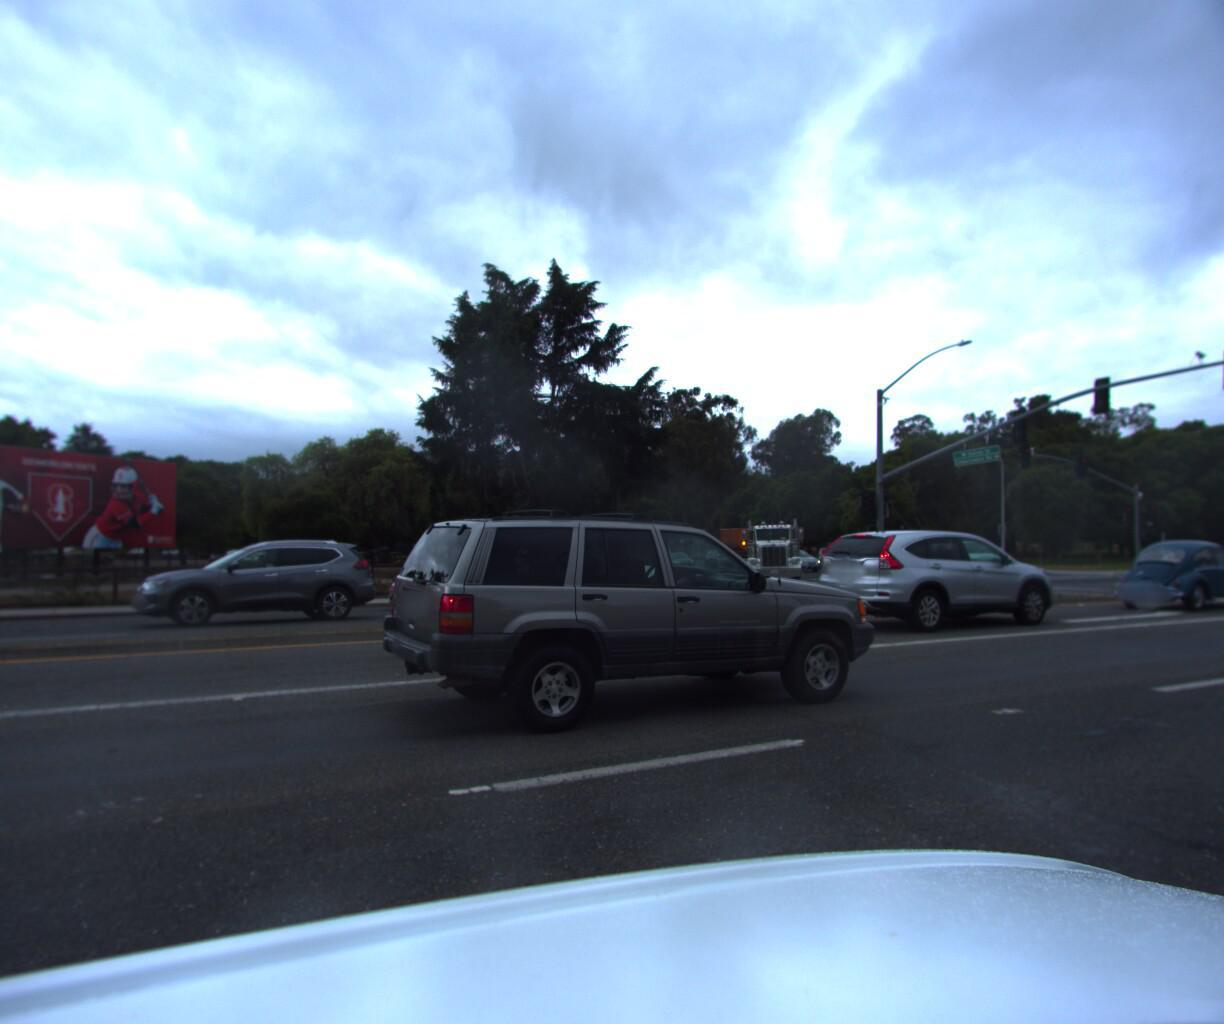car: (362, 500, 883, 762), (793, 528, 1072, 639), (125, 544, 380, 637), (373, 554, 549, 616), (1093, 534, 1224, 613), (763, 551, 825, 574)
truck: (734, 511, 802, 591), (708, 525, 779, 581)
